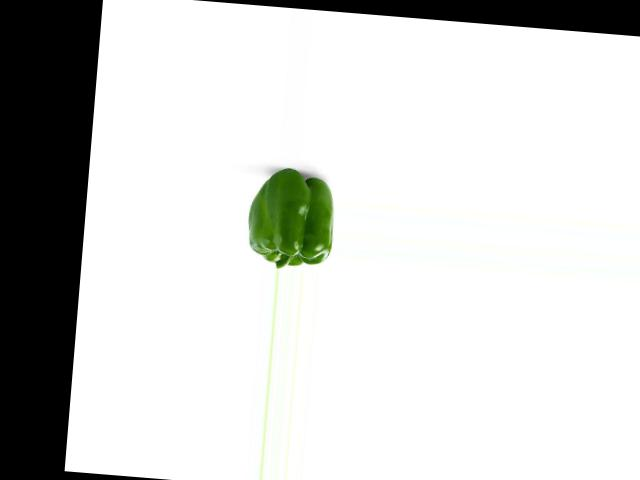bell_pepper: (243, 168, 339, 270)
